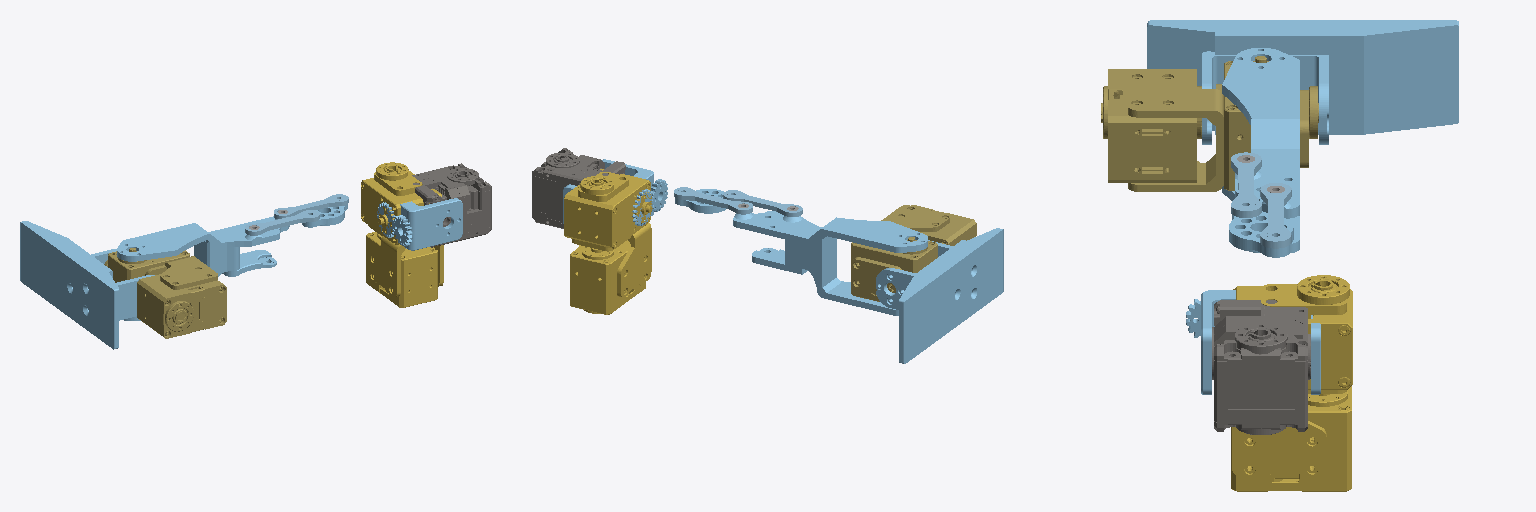
URDF robot description (right_leg_reorder):
<?xml version="1.0" ?>
<robot name="right_leg_reorder">
  <link name="2xc430">
    <visual>
      <origin xyz="0 0 0" rpy="0 -0 0"/>
      <geometry>
        <mesh filename="package:///meshes/right_2xc430_visual.stl"/>
      </geometry>
      <material name="2xc430_material">
        <color rgba="0.51698661238356047321 0.50347815951093488618 0.49050589017722012741 1.0"/>
      </material>
    </visual>
    <collision>
      <origin xyz="0 0 0" rpy="0 -0 0"/>
      <geometry>
        <mesh filename="package:///meshes/right_2xc430_collision.stl"/>
      </geometry>
    </collision>
    <inertial>
      <origin xyz="-0.0120001511339564923 0.00049588831385626367092 0.01850401924450319896" rpy="0 0 0"/>
      <mass value="0.11059999999836234164"/>
      <inertia ixx="2.2818802599017385101e-05" ixy="4.6888548258345894655e-08" ixz="4.6520143289217505514e-08" iyy="3.0871666424467696587e-05" iyz="-5.7477343899723834052e-07" izz="3.0871632082336744173e-05"/>
    </inertial>
  </link>

  <link name="hip_yaw_link">
    <visual>
      <origin xyz="0 0 0" rpy="0 -0 0"/>
      <geometry>
        <mesh filename="package:///meshes/right_hip_yaw_link_visual.stl"/>
      </geometry>
      <material name="hip_yaw_link_material">
        <color rgba="0.61568627450980395466 0.81176470588235294379 0.92941176470588238168 1.0"/>
      </material>
    </visual>
    <collision>
      <origin xyz="0 0 0" rpy="0 -0 0"/>
      <geometry>
        <mesh filename="package:///meshes/right_hip_yaw_link_collision.stl"/>
      </geometry>
    </collision>
    <inertial>
      <origin xyz="-6.1483297531456918442e-18 -0.015800610849654273676 -0.019005670096647751116" rpy="0 0 0"/>
      <mass value="0.013199999999999992989"/>
      <inertia ixx="5.789461597517412337e-06" ixy="0" ixz="0" iyy="5.0110144042848776317e-06" iyz="1.1826010760651176287e-09" izz="2.7344876354814331659e-06"/>
    </inertial>
  </link>

  <link name="spur_gear_21_teeth">
    <visual>
      <origin xyz="0 0 0" rpy="0 -0 0"/>
      <geometry>
        <mesh filename="package:///meshes/right_spur_gear_21_teeth_visual.stl"/>
      </geometry>
      <material name="spur_gear_21_teeth_material">
        <color rgba="0.61568627450980395466 0.81176470588235294379 0.9294117647058824927 1.0"/>
      </material>
    </visual>
    <collision>
      <origin xyz="0 0 0" rpy="0 -0 0"/>
      <geometry>
        <mesh filename="package:///meshes/right_spur_gear_21_teeth_collision.stl"/>
      </geometry>
    </collision>
    <inertial>
      <origin xyz="-4.5505289335411606329e-11 -1.6782167131337769527e-11 -0.00249241020062506086" rpy="0 0 0"/>
      <mass value="0.0022000000000000001325"/>
      <inertia ixx="7.0162310059594196881e-08" ixy="-8.6481724095232400255e-40" ixz="5.9015579823613624977e-39" iyy="7.016231005804746178e-08" iyz="-2.0034010754136097062e-38" izz="1.3125544198538289306e-07"/>
    </inertial>
  </link>

  <link name="right_hip_pitch_link">
    <visual>
      <origin xyz="0 0 0" rpy="0 -0 0"/>
      <geometry>
        <mesh filename="package:///meshes/right_hip_pitch_link_visual.stl"/>
      </geometry>
      <material name="right_hip_pitch_link_material">
        <color rgba="0.81231119922470307326 0.7131158892107314351 0.33680089849959421455 1.0"/>
      </material>
    </visual>
    <collision>
      <origin xyz="0 0 0" rpy="0 -0 0"/>
      <geometry>
        <mesh filename="package:///meshes/right_hip_pitch_link_collision.stl"/>
      </geometry>
    </collision>
    <inertial>
      <origin xyz="0.010187905578010790844 -0.0056188467228509330134 0.038815928333491456215" rpy="0 0 0"/>
      <mass value="0.14548965119785964295"/>
      <inertia ixx="7.094204959486465924e-05" ixy="1.1158758975158450794e-06" ixz="7.6515558781284838565e-06" iyy="8.5157398802913054328e-05" iyz="1.0699337399071725082e-06" izz="4.0945306935231742525e-05"/>
    </inertial>
  </link>

  <link name="spur_gear_18_teeth">
    <visual>
      <origin xyz="0 0 0" rpy="0 -0 0"/>
      <geometry>
        <mesh filename="package:///meshes/right_spur_gear_18_teeth_visual.stl"/>
      </geometry>
      <material name="spur_gear_18_teeth_material">
        <color rgba="0.61568627450980395466 0.81176470588235294379 0.92941176470588238168 1.0"/>
      </material>
    </visual>
    <collision>
      <origin xyz="0 0 0" rpy="0 -0 0"/>
      <geometry>
        <mesh filename="package:///meshes/right_spur_gear_18_teeth_collision.stl"/>
      </geometry>
    </collision>
    <inertial>
      <origin xyz="-1.2350917852414122165e-14 -3.7635296765399104409e-13 0.0017500000000010207044" rpy="0 0 0"/>
      <mass value="0.0011999999999999998949"/>
      <inertia ixx="2.936789981067607588e-08" ixy="0" ixz="1.8125485473072847388e-36" iyy="2.9367899814783318789e-08" iyz="0" izz="5.6306346207859581581e-08"/>
    </inertial>
  </link>

  <joint name="right_hip_yaw_drive" type="revolute">
    <origin xyz="0.019200000000000595063 0.00019999999999990858424 -3.9919456629178284857e-14" rpy="-3.1415926535897487071 -3.3583610398554125797e-13 4.6072104872475000824e-13"/>
    <parent link="right_hip_pitch_link"/>
    <child link="spur_gear_18_teeth"/>
    <axis xyz="0 0 1"/>
    <limit effort="1" velocity="20" lower="-1.8325957145940461324" upper="1.8325957145940461324"/>
    <joint_properties friction="0.0"/>
  </joint>

  <link name="right_calf_link">
    <visual>
      <origin xyz="0 0 0" rpy="0 -0 0"/>
      <geometry>
        <mesh filename="package:///meshes/right_calf_link_visual.stl"/>
      </geometry>
      <material name="right_calf_link_material">
        <color rgba="0.61568627450980395466 0.81176470588235294379 0.92941176470588238168 1.0"/>
      </material>
    </visual>
    <collision>
      <origin xyz="0 0 0" rpy="0 -0 0"/>
      <geometry>
        <mesh filename="package:///meshes/right_calf_link_collision.stl"/>
      </geometry>
    </collision>
    <inertial>
      <origin xyz="-0.0043450054394400753482 -0.04075298216475804064 0.008711609351475196536" rpy="0 0 0"/>
      <mass value="0.030999999999999992839"/>
      <inertia ixx="3.3069388685437999941e-05" ixy="1.3783307152006436104e-06" ixz="-1.2742534017151547024e-07" iyy="7.7316525337494561228e-06" iyz="7.3356500737960487294e-08" izz="2.8031377754212211627e-05"/>
    </inertial>
  </link>

  <link name="bearing_683">
    <visual>
      <origin xyz="0 0 0" rpy="0 -0 0"/>
      <geometry>
        <mesh filename="package:///meshes/right_bearing_683_visual.stl"/>
      </geometry>
      <material name="bearing_683_material">
        <color rgba="0.64705882352941179736 0.64705882352941179736 0.64705882352941179736 1.0"/>
      </material>
    </visual>
    <collision>
      <origin xyz="0 0 0" rpy="0 -0 0"/>
      <geometry>
        <mesh filename="package:///meshes/right_bearing_683_collision.stl"/>
      </geometry>
    </collision>
    <inertial>
      <origin xyz="2.7862896558581290791e-17 -2.4186774283160221397e-19 -0.0015500000000000003792" rpy="0 0 0"/>
      <mass value="0.00048694686130641793437"/>
      <inertia ixx="2.1551456503319887385e-09" ixy="4.2598306438204978266e-28" ixz="-7.3234829304002240204e-39" iyy="2.1551456503319874977e-09" iyz="-2.4060933654183729714e-40" izz="3.5303647444715305817e-09"/>
    </inertial>
  </link>

  <joint name="right_knee_front_rev_2" type="revolute">
    <origin xyz="0.0057402514854766849284 -0.013858192987668827012 0.02619999999999997331" rpy="3.1415926535897904515 1.1270393647317458615e-14 1.5719696003976120213"/>
    <parent link="right_calf_link"/>
    <child link="bearing_683"/>
    <axis xyz="0 0 1"/>
    <limit effort="1" velocity="20"/>
    <joint_properties friction="0.0"/>
  </joint>

  <link name="bearing_683_2">
    <visual>
      <origin xyz="0 0 0" rpy="0 -0 0"/>
      <geometry>
        <mesh filename="package:///meshes/right_bearing_683_2_visual.stl"/>
      </geometry>
      <material name="bearing_683_2_material">
        <color rgba="0.64705882352941179736 0.64705882352941179736 0.64705882352941179736 1.0"/>
      </material>
    </visual>
    <collision>
      <origin xyz="0 0 0" rpy="0 -0 0"/>
      <geometry>
        <mesh filename="package:///meshes/right_bearing_683_2_collision.stl"/>
      </geometry>
    </collision>
    <inertial>
      <origin xyz="1.0732094295237784574e-19 -2.4186774283160235841e-19 -0.0015500000000000003792" rpy="0 0 0"/>
      <mass value="0.00048694686130641793437"/>
      <inertia ixx="2.1551456503319887385e-09" ixy="-1.1494962908747497034e-28" ixz="2.265476119271587224e-39" iyy="2.1551456503319891521e-09" iyz="1.489597402795983312e-40" izz="3.5303647444715305817e-09"/>
    </inertial>
  </link>

  <joint name="right_knee_back_rev_2" type="revolute">
    <origin xyz="-0.0057402514854761627766 0.013858192987670853169 0.026199999999999959432" rpy="3.1415926535897886751 4.04667926947700006e-15 1.5695900538857272544"/>
    <parent link="right_calf_link"/>
    <child link="bearing_683_2"/>
    <axis xyz="0 0 1"/>
    <limit effort="1" velocity="20"/>
    <joint_properties friction="0.0"/>
  </joint>

  <link name="right_ank_pitch_link">
    <visual>
      <origin xyz="0 0 0" rpy="0 -0 0"/>
      <geometry>
        <mesh filename="package:///meshes/right_ank_pitch_link_visual.stl"/>
      </geometry>
      <material name="right_ank_pitch_link_material">
        <color rgba="0.70321688500203349825 0.64514870846184457776 0.40484735422826251261 1.0"/>
      </material>
    </visual>
    <collision>
      <origin xyz="0 0 0" rpy="0 -0 0"/>
      <geometry>
        <mesh filename="package:///meshes/right_ank_pitch_link_collision.stl"/>
      </geometry>
    </collision>
    <inertial>
      <origin xyz="-0.01777024188954268516 0.012301334508572285553 0.018814514831173675957" rpy="0 0 0"/>
      <mass value="0.1767637669506791076"/>
      <inertia ixx="4.7283381546857748841e-05" ixy="1.3380598207244262923e-06" ixz="6.1532628607417077641e-07" iyy="0.00010706462535917217807" iyz="-5.1080086246370357937e-08" izz="0.00012185522398303814907"/>
    </inertial>
  </link>

  <link name="ank_roll_link">
    <visual>
      <origin xyz="0 0 0" rpy="0 -0 0"/>
      <geometry>
        <mesh filename="package:///meshes/right_ank_roll_link_visual.stl"/>
      </geometry>
      <material name="ank_roll_link_material">
        <color rgba="0.61568627450980384364 0.81176470588235283277 0.92941176470588227065 1.0"/>
      </material>
    </visual>
    <collision>
      <origin xyz="0 0 0" rpy="0 -0 0"/>
      <geometry>
        <mesh filename="package:///meshes/right_ank_roll_link_collision.stl"/>
      </geometry>
    </collision>
    <inertial>
      <origin xyz="-0.02700306651682201492 -2.005733932976729254e-12 0.033764011359896435593" rpy="0 0 0"/>
      <mass value="0.042600000000000012856"/>
      <inertia ixx="3.7284397827464680426e-05" ixy="-5.517453075479433163e-16" ixz="2.392918376808064086e-06" iyy="3.7589276943350409207e-05" iyz="5.0934854972587995505e-12" izz="1.0090430906786784418e-05"/>
    </inertial>
  </link>

  <joint name="right_ank_roll" type="revolute">
    <origin xyz="-0.022749999999990291877 -2.9976021664879226591e-15 0.018999999999999558908" rpy="1.570796326794811959 9.5680781580564777459e-14 1.5707963267948310548"/>
    <parent link="right_ank_pitch_link"/>
    <child link="ank_roll_link"/>
    <axis xyz="0 0 1"/>
    <limit effort="1" velocity="20" lower="-1.570796326794896558" upper="1.570796326794896558"/>
    <joint_properties friction="0.0"/>
  </joint>

  <joint name="right_ank_pitch" type="revolute">
    <origin xyz="7.9282998314407210272e-17 -0.10000000000000278111 0.027750000000000038525" rpy="-3.1415926535897851224 8.8042386588788376547e-15 3.1415926535897575889"/>
    <parent link="right_calf_link"/>
    <child link="right_ank_pitch_link"/>
    <axis xyz="0 0 1"/>
    <limit effort="1" velocity="20" lower="-0.785398163397448279" upper="1.7453292519943295336"/>
    <joint_properties friction="0.0"/>
  </joint>

  <joint name="right_knee" type="revolute">
    <origin xyz="4.491391864188864284e-17 -0.0087500000000000043021 0.085950000000000248424" rpy="-1.570796326794896558 -5.5569291725623875623e-17 -4.1442543841061995334e-15"/>
    <parent link="right_hip_pitch_link"/>
    <child link="right_calf_link"/>
    <axis xyz="0 0 1"/>
    <limit effort="1" velocity="20" lower="0" upper="2.0943951023931952626"/>
    <joint_properties friction="0.0"/>
  </joint>

  <link name="xm430_plate">
    <visual>
      <origin xyz="0 0 0" rpy="0 -0 0"/>
      <geometry>
        <mesh filename="package:///meshes/right_xm430_plate_visual.stl"/>
      </geometry>
      <material name="xm430_plate_material">
        <color rgba="0.61568627450980395466 0.81176470588235294379 0.92941176470588227065 1.0"/>
      </material>
    </visual>
    <collision>
      <origin xyz="0 0 0" rpy="0 -0 0"/>
      <geometry>
        <mesh filename="package:///meshes/right_xm430_plate_collision.stl"/>
      </geometry>
    </collision>
    <inertial>
      <origin xyz="-9.7261304206861773257e-19 -2.9625680639399983914e-18 0.0025278513919583817798" rpy="0 0 0"/>
      <mass value="0.0026999999999999997093"/>
      <inertia ixx="2.4635091298412534083e-07" ixy="5.8739562556303546978e-08" ixz="1.6488528924539488391e-38" iyy="1.2887178787151819394e-07" iyz="-4.7671642829899821838e-37" izz="3.6467998413810316538e-07"/>
    </inertial>
  </link>

  <link name="knee_rod">
    <visual>
      <origin xyz="0 0 0" rpy="0 -0 0"/>
      <geometry>
        <mesh filename="package:///meshes/right_knee_rod_visual.stl"/>
      </geometry>
      <material name="knee_rod_material">
        <color rgba="0.62051618944235198416 0.78640765248647581664 0.88594253031295011613 1.0"/>
      </material>
    </visual>
    <collision>
      <origin xyz="0 0 0" rpy="0 -0 0"/>
      <geometry>
        <mesh filename="package:///meshes/right_knee_rod_collision.stl"/>
      </geometry>
    </collision>
    <inertial>
      <origin xyz="0.017534288777882725552 4.1145083530046676085e-05 -0.0015987301647632601396" rpy="0 0 0"/>
      <mass value="0.003162946861306418795"/>
      <inertia ixx="2.422520350903731932e-08" ixy="-4.1523452929273176848e-10" ixz="4.9178286424076687208e-10" iyy="8.1758850361951706548e-07" iyz="1.1539930294877956541e-12" izz="8.3704922659328214469e-07"/>
    </inertial>
  </link>

  <joint name="right_knee_front_rev_1" type="revolute">
    <origin xyz="0.0057402514854763518615 -0.013858192987669298857 0.0050000000000000044409" rpy="3.1415926535897922278 -2.0205656421608262662e-14 -1.5696230531921844253"/>
    <parent link="xm430_plate"/>
    <child link="knee_rod"/>
    <axis xyz="0 0 1"/>
    <limit effort="1" velocity="20"/>
    <joint_properties friction="0.0"/>
  </joint>

  <link name="knee_rod_2">
    <visual>
      <origin xyz="0 0 0" rpy="0 -0 0"/>
      <geometry>
        <mesh filename="package:///meshes/right_knee_rod_2_visual.stl"/>
      </geometry>
      <material name="knee_rod_2_material">
        <color rgba="0.62051618944235198416 0.78640765248647581664 0.88594253031295011613 1.0"/>
      </material>
    </visual>
    <collision>
      <origin xyz="0 0 0" rpy="0 -0 0"/>
      <geometry>
        <mesh filename="package:///meshes/right_knee_rod_2_collision.stl"/>
      </geometry>
    </collision>
    <inertial>
      <origin xyz="0.017534287401028952197 -4.230232304207548694e-05 -0.0015987301647633269264" rpy="0 0 0"/>
      <mass value="0.003162946861306418795"/>
      <inertia ixx="2.4225259089665888754e-08" ixy="4.2691331041381926747e-10" ixz="4.9178282562450544184e-10" iyy="8.1758847582921140495e-07" iyz="-1.1864500382085723636e-12" izz="8.3704925438359458149e-07"/>
    </inertial>
  </link>

  <joint name="right_knee_back_rev_1" type="revolute">
    <origin xyz="-0.0057402514854763492594 0.013858192987669271101 0.004999999999999997502" rpy="3.1415926535897922278 -1.388398626480973237e-14 -1.5720025997040691923"/>
    <parent link="xm430_plate"/>
    <child link="knee_rod_2"/>
    <axis xyz="0 0 1"/>
    <limit effort="1" velocity="20"/>
    <joint_properties friction="0.0"/>
  </joint>

  <joint name="right_knee_act" type="revolute">
    <origin xyz="-3.4410939121567419255e-17 0.01245000000000000967 0.044500000000000088096" rpy="-1.5707963267949061059 2.6644771186035749771e-15 -1.0609561628018721089e-15"/>
    <parent link="right_hip_pitch_link"/>
    <child link="xm430_plate"/>
    <axis xyz="0 0 1"/>
    <limit effort="1" velocity="20" lower="0" upper="2.0943951023931952626"/>
    <joint_properties friction="0.0"/>
  </joint>

  <joint name="right_hip_yaw_driven" type="revolute">
    <origin xyz="-1.204861457474966044e-19 -6.9388939039072283776e-18 -0.0050000000000000113798" rpy="3.141592653589793116 -9.4994925477120343739e-16 4.2299644928409957938e-30"/>
    <parent link="spur_gear_21_teeth"/>
    <child link="right_hip_pitch_link"/>
    <axis xyz="0 0 1"/>
    <limit effort="1" velocity="20" lower="-1.570796326794896558" upper="1.570796326794896558"/>
    <joint_properties friction="0.0"/>
  </joint>

  <joint name="right_hip_yaw_fixed" type="fixed">
    <origin xyz="-6.9388939039072283776e-18 -0.027999999999999979766 -0.018999999999999999528" rpy="-1.570796326794896558 1.5707963267948956698 0"/>
    <parent link="hip_yaw_link"/>
    <child link="spur_gear_21_teeth"/>
    <axis xyz="0 0 1"/>
    <limit effort="1" velocity="20"/>
    <joint_properties friction="0.0"/>
  </joint>

  <joint name="right_hip_roll" type="revolute">
    <origin xyz="-0.024000000716140008905 0.019000000152447762275 0.019000000152447762275" rpy="-1.570796326794896558 -1.5707963267948898967 0"/>
    <parent link="2xc430"/>
    <child link="hip_yaw_link"/>
    <axis xyz="0 0 1"/>
    <limit effort="1" velocity="20" lower="-0.785398163397448279" upper="0.785398163397448279"/>
    <joint_properties friction="0.0"/>
  </joint>


</robot>

--- Render facts (derived) ---
3 views of the same robot in one strip: view 1: azimuth 30°, elevation 25°; view 2: azimuth 150°, elevation 25°; view 3: azimuth 270°, elevation 25° (orthographic).
Model right_leg_reorder with 13 links and 12 joints (11 revolute, 1 fixed), rooted at 2xc430, posed every joint at zero.
Visible links, largest first — view 1: ank_roll_link, right_hip_pitch_link, right_ank_pitch_link, right_calf_link, 2xc430, hip_yaw_link, knee_rod, knee_rod_2, xm430_plate; view 2: right_hip_pitch_link, ank_roll_link, right_calf_link, right_ank_pitch_link, 2xc430, knee_rod_2, knee_rod, xm430_plate; view 3: ank_roll_link, right_ank_pitch_link, right_hip_pitch_link, 2xc430, right_calf_link, hip_yaw_link, xm430_plate, knee_rod_2, knee_rod.
Boxes of the visible links, x1,y1,x2,y2 form: ank_roll_link: (20,221,154,349); right_hip_pitch_link: (361,162,443,307); right_ank_pitch_link: (104,248,226,338); right_calf_link: (117,216,289,320); 2xc430: (412,163,491,247); hip_yaw_link: (400,198,462,250); knee_rod: (245,210,319,235); knee_rod_2: (274,194,348,218); xm430_plate: (302,204,347,227); right_hip_pitch_link: (564,169,652,314); ank_roll_link: (876,228,1003,363); right_calf_link: (733,211,927,315); right_ank_pitch_link: (851,205,976,301); 2xc430: (532,148,625,228); knee_rod_2: (674,187,752,214); knee_rod: (723,190,802,216); xm430_plate: (675,189,725,213); ank_roll_link: (1147,20,1458,144); right_ank_pitch_link: (1101,56,1318,191); right_hip_pitch_link: (1231,275,1352,491); 2xc430: (1212,300,1310,434); right_calf_link: (1222,48,1299,252); hip_yaw_link: (1201,290,1320,394); xm430_plate: (1229,211,1293,257); knee_rod_2: (1260,183,1291,248); knee_rod: (1231,152,1261,217).
Size in the robot's own frame: 0.2932 by 0.138 by 0.0842 metres.
13 mesh visuals loaded from 13 distinct referenced files (13 binary STL).